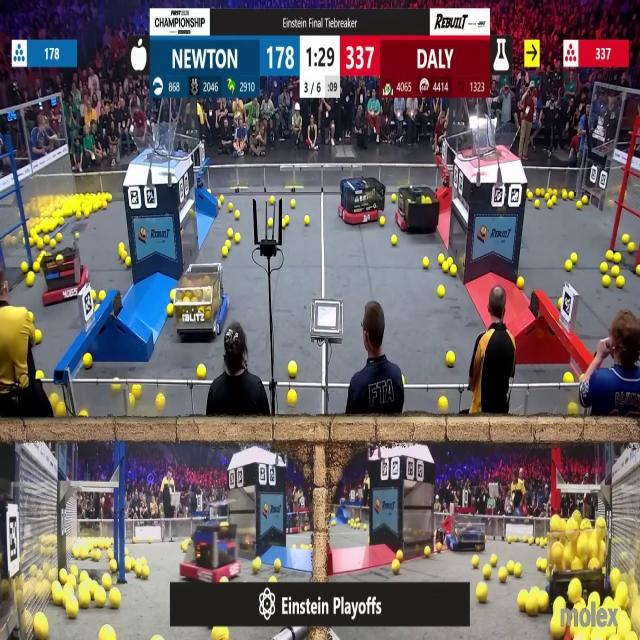ball_airborne: (568, 580, 581, 604)
ball_ground: (552, 614, 566, 640), (526, 598, 538, 616), (109, 590, 120, 609), (67, 599, 78, 618), (537, 594, 548, 612), (101, 626, 115, 640), (95, 591, 106, 608), (478, 586, 488, 604), (516, 590, 525, 610), (79, 592, 90, 608), (288, 360, 297, 377), (57, 404, 67, 419), (158, 394, 166, 410), (440, 396, 449, 410), (568, 404, 577, 418), (103, 574, 112, 588), (498, 568, 507, 582), (288, 390, 296, 405), (83, 353, 91, 368), (252, 558, 260, 573), (198, 363, 206, 377), (447, 352, 455, 366), (392, 560, 400, 574), (515, 563, 523, 577), (34, 328, 42, 342), (506, 562, 514, 576), (536, 558, 545, 570), (564, 373, 573, 384), (484, 565, 491, 579), (602, 275, 610, 287), (600, 264, 608, 276), (27, 274, 35, 286), (141, 567, 149, 579), (275, 559, 282, 572), (610, 267, 618, 278), (109, 561, 117, 572), (618, 276, 625, 288), (471, 556, 478, 568), (439, 285, 446, 297), (123, 560, 130, 572), (61, 570, 68, 582), (628, 243, 636, 253), (36, 239, 44, 249), (80, 571, 88, 581), (49, 394, 57, 404), (99, 290, 106, 301), (424, 545, 431, 556), (423, 256, 429, 268), (168, 306, 174, 318), (491, 554, 497, 566), (451, 266, 457, 278), (70, 566, 78, 575), (235, 234, 242, 244), (565, 263, 572, 273), (36, 368, 43, 378), (22, 264, 29, 274), (282, 216, 289, 226), (126, 256, 133, 266), (518, 278, 524, 289), (136, 566, 142, 577), (443, 265, 450, 274), (623, 235, 630, 244), (380, 216, 386, 226), (34, 264, 40, 274), (396, 552, 402, 562), (391, 236, 397, 246), (28, 312, 34, 322), (221, 247, 227, 257), (571, 253, 577, 263), (616, 252, 622, 262), (108, 550, 114, 560), (606, 251, 612, 261), (76, 210, 82, 220), (474, 544, 482, 551), (112, 384, 119, 392), (118, 250, 125, 258), (58, 216, 65, 224), (171, 289, 176, 300), (435, 542, 441, 551), (534, 200, 540, 209), (57, 234, 63, 243), (50, 240, 56, 249), (269, 217, 274, 227), (93, 290, 98, 300), (290, 200, 296, 208), (224, 240, 230, 248), (568, 190, 574, 198), (79, 412, 87, 418), (527, 190, 533, 198), (448, 256, 454, 264), (102, 202, 108, 210), (29, 238, 35, 246), (182, 542, 188, 550), (227, 230, 232, 239), (236, 210, 241, 219), (546, 200, 551, 209), (440, 254, 445, 263), (83, 209, 88, 218), (118, 242, 123, 251), (271, 575, 277, 582), (270, 198, 276, 205), (636, 266, 640, 276), (107, 192, 112, 200), (563, 190, 568, 198), (227, 204, 232, 212), (123, 546, 128, 554), (44, 237, 49, 245), (535, 188, 540, 195), (584, 198, 589, 205), (507, 536, 512, 543), (306, 216, 310, 224), (576, 202, 580, 210), (392, 193, 396, 201), (152, 636, 160, 640), (544, 193, 549, 199), (76, 233, 80, 240), (291, 543, 296, 548), (133, 536, 137, 542), (148, 536, 152, 542), (331, 520, 335, 526), (220, 194, 223, 200), (218, 202, 220, 208)
goal: (465, 121, 521, 160), (130, 130, 188, 160)
robot_blue: (175, 264, 231, 340), (447, 512, 487, 551)
robot_red: (184, 518, 242, 581), (43, 247, 88, 306), (338, 174, 384, 224), (396, 186, 439, 233), (285, 512, 308, 535)
